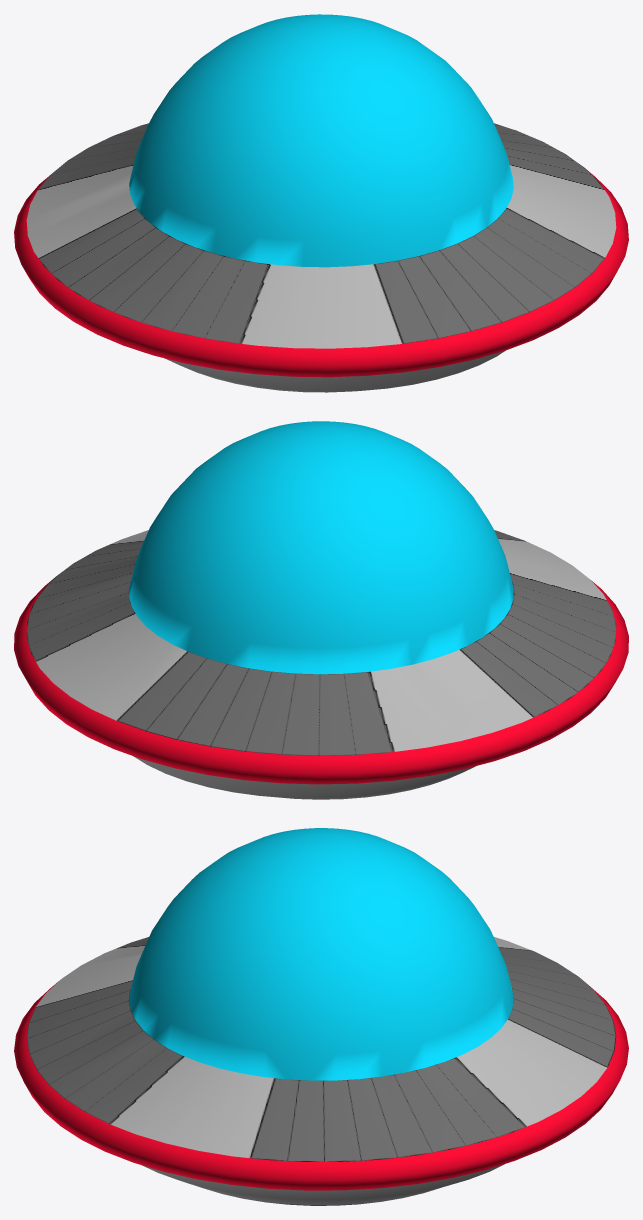
Rendered from UfoModel#1.fbx.
The picture shows the model from 3 angles, top to bottom: view 1: azimuth 30°, elevation 25°; view 2: azimuth 150°, elevation 25°; view 3: azimuth 270°, elevation 25°; orthographic projection.
Visible parts, largest first — view 1: pSphere3; view 2: pSphere3; view 3: pSphere3.
Boxes of the visible parts, left/top/right/bottom form: pSphere3: left=14, top=14, right=628, bottom=392; pSphere3: left=14, top=421, right=628, bottom=799; pSphere3: left=14, top=828, right=628, bottom=1205.
Bounding box in the file's own units: 3.13 × 1.61 × 3.14.
